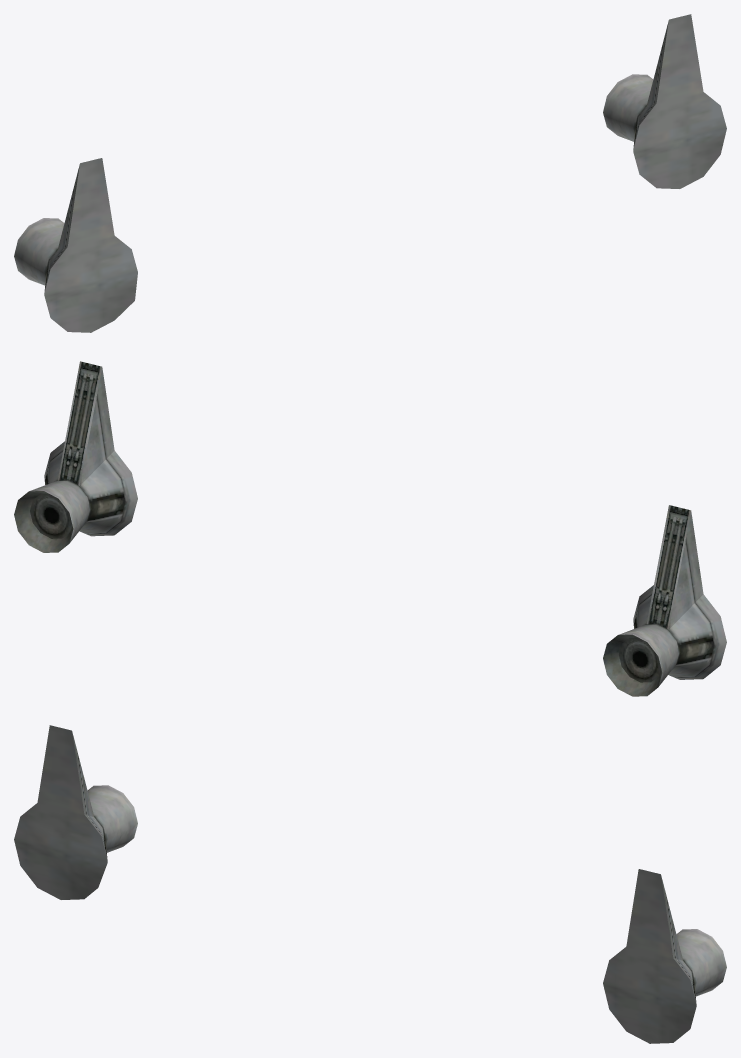
Rendered from kse_firespray_booster_s01_l0.fbx.
3 renders of one model, top to bottom at view 1: azimuth 30°, elevation 25°; view 2: azimuth 150°, elevation 25°; view 3: azimuth 330°, elevation 25°, orthographic.
Visible parts, largest first — view 1: mesh_node; view 2: mesh_node; view 3: mesh_node.
Boxes of the visible parts, x1,y1,x2,y2 form: mesh_node: [14, 14, 726, 332]; mesh_node: [14, 361, 726, 696]; mesh_node: [14, 725, 726, 1043].
Bounding box in the file's own units: 10.54 × 2.54 × 1.35.
